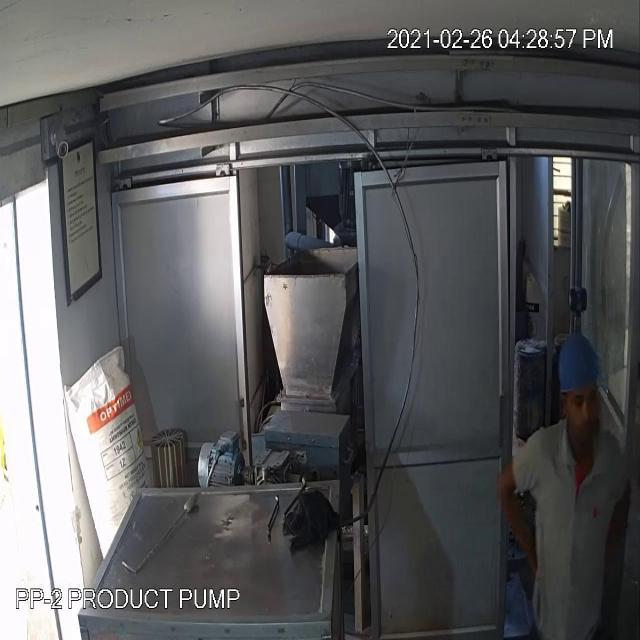no-helmet: (558, 319, 604, 421)
